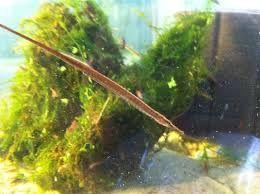Long-Snouted Pipefish: (1, 16, 188, 136)
